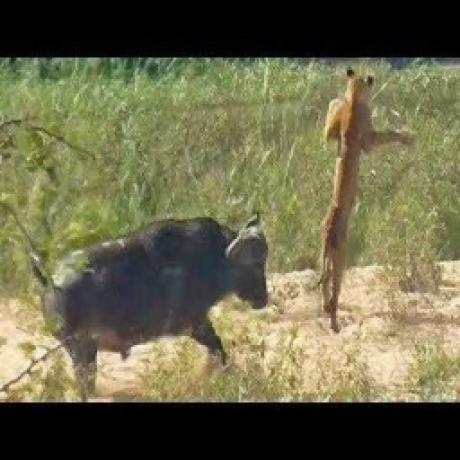Lion: (312, 60, 408, 335)
